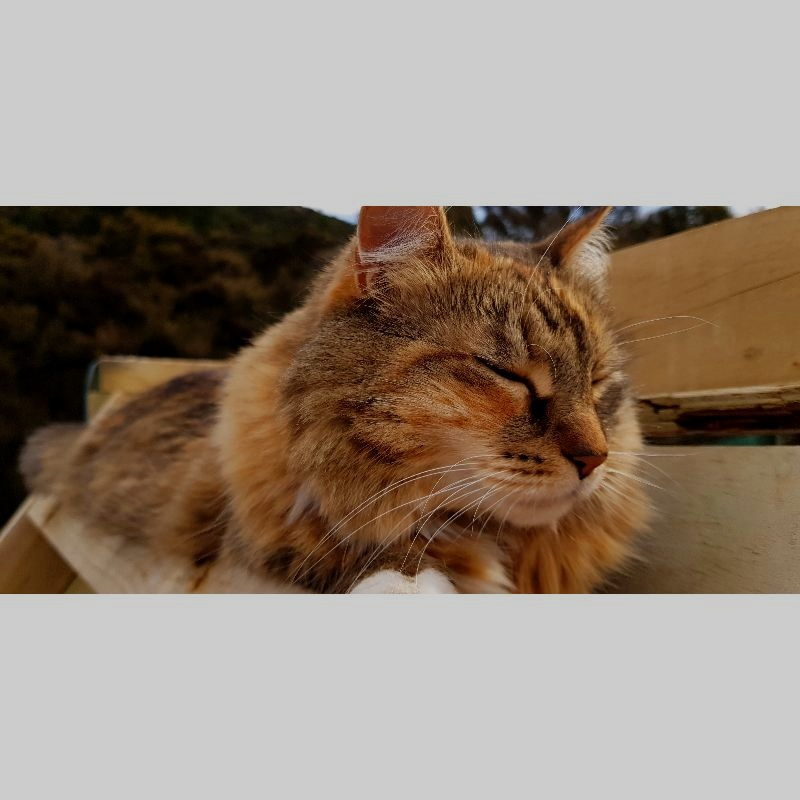yellow: (70, 206, 670, 594)
